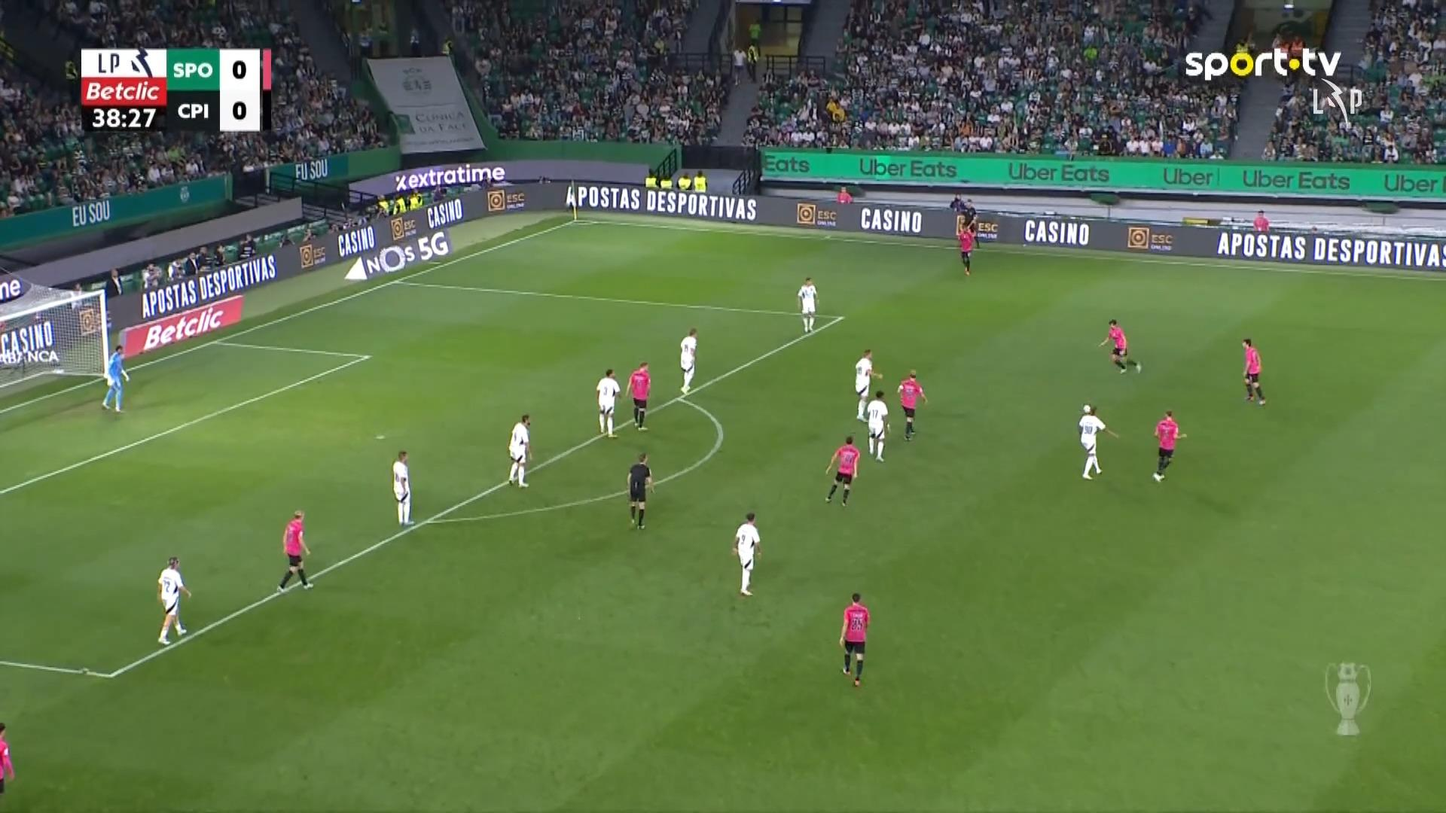ball: (1084, 405, 1091, 413)
goalkeeper: (101, 343, 130, 413)
player: (1077, 403, 1118, 480), (156, 556, 191, 644), (276, 509, 313, 592), (838, 592, 870, 687), (823, 434, 859, 507), (731, 511, 761, 595), (1152, 410, 1186, 481), (1099, 318, 1141, 373), (853, 348, 883, 422), (896, 369, 927, 440), (506, 413, 532, 488), (625, 361, 651, 431), (1240, 336, 1266, 405), (595, 368, 620, 438), (865, 389, 889, 461), (392, 449, 414, 526), (796, 276, 818, 333), (679, 327, 697, 394), (956, 221, 977, 276)
referee: (627, 452, 654, 529)
